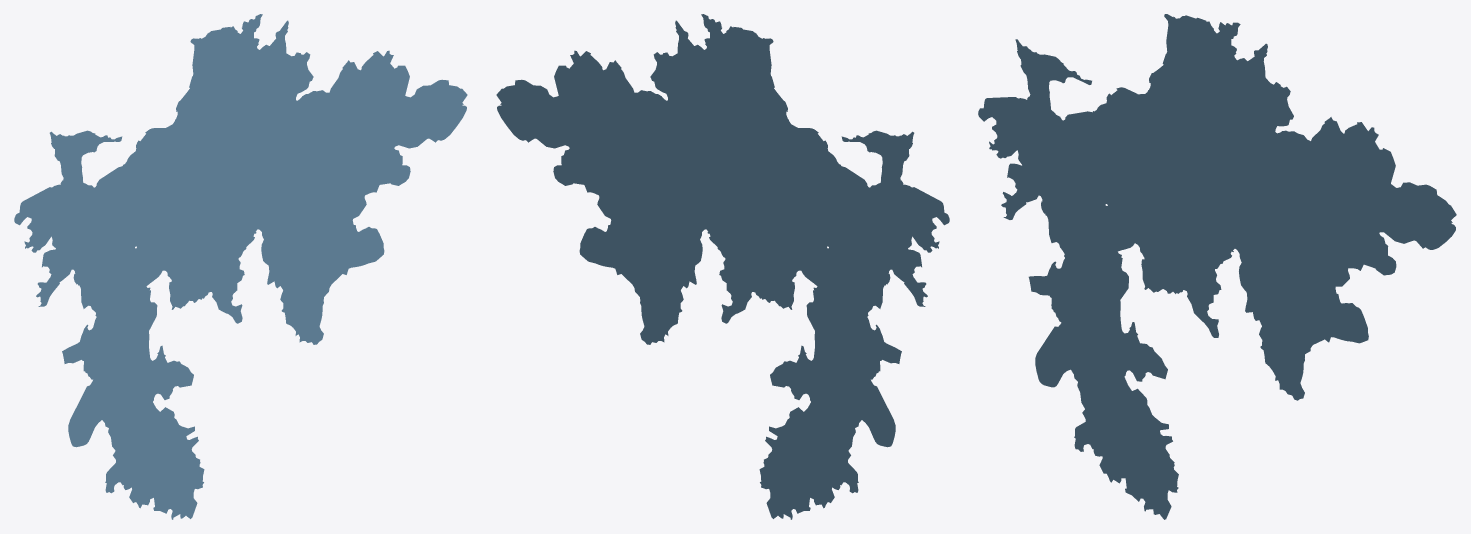
File: lake.glb
The picture shows the model from 3 angles, left to right: view 1: azimuth 30°, elevation 25°; view 2: azimuth 150°, elevation 25°; view 3: azimuth 330°, elevation 25°; orthographic projection. The views are drawn at different scales.
Visible parts, largest first — view 1: world; view 2: world; view 3: world.
Boxes of the visible parts, x1,y1,x2,y2 form: world: [14, 14, 467, 519]; world: [496, 14, 949, 519]; world: [978, 14, 1456, 519].
Size of the model in its own units: 4353 by 4477 by 0.
